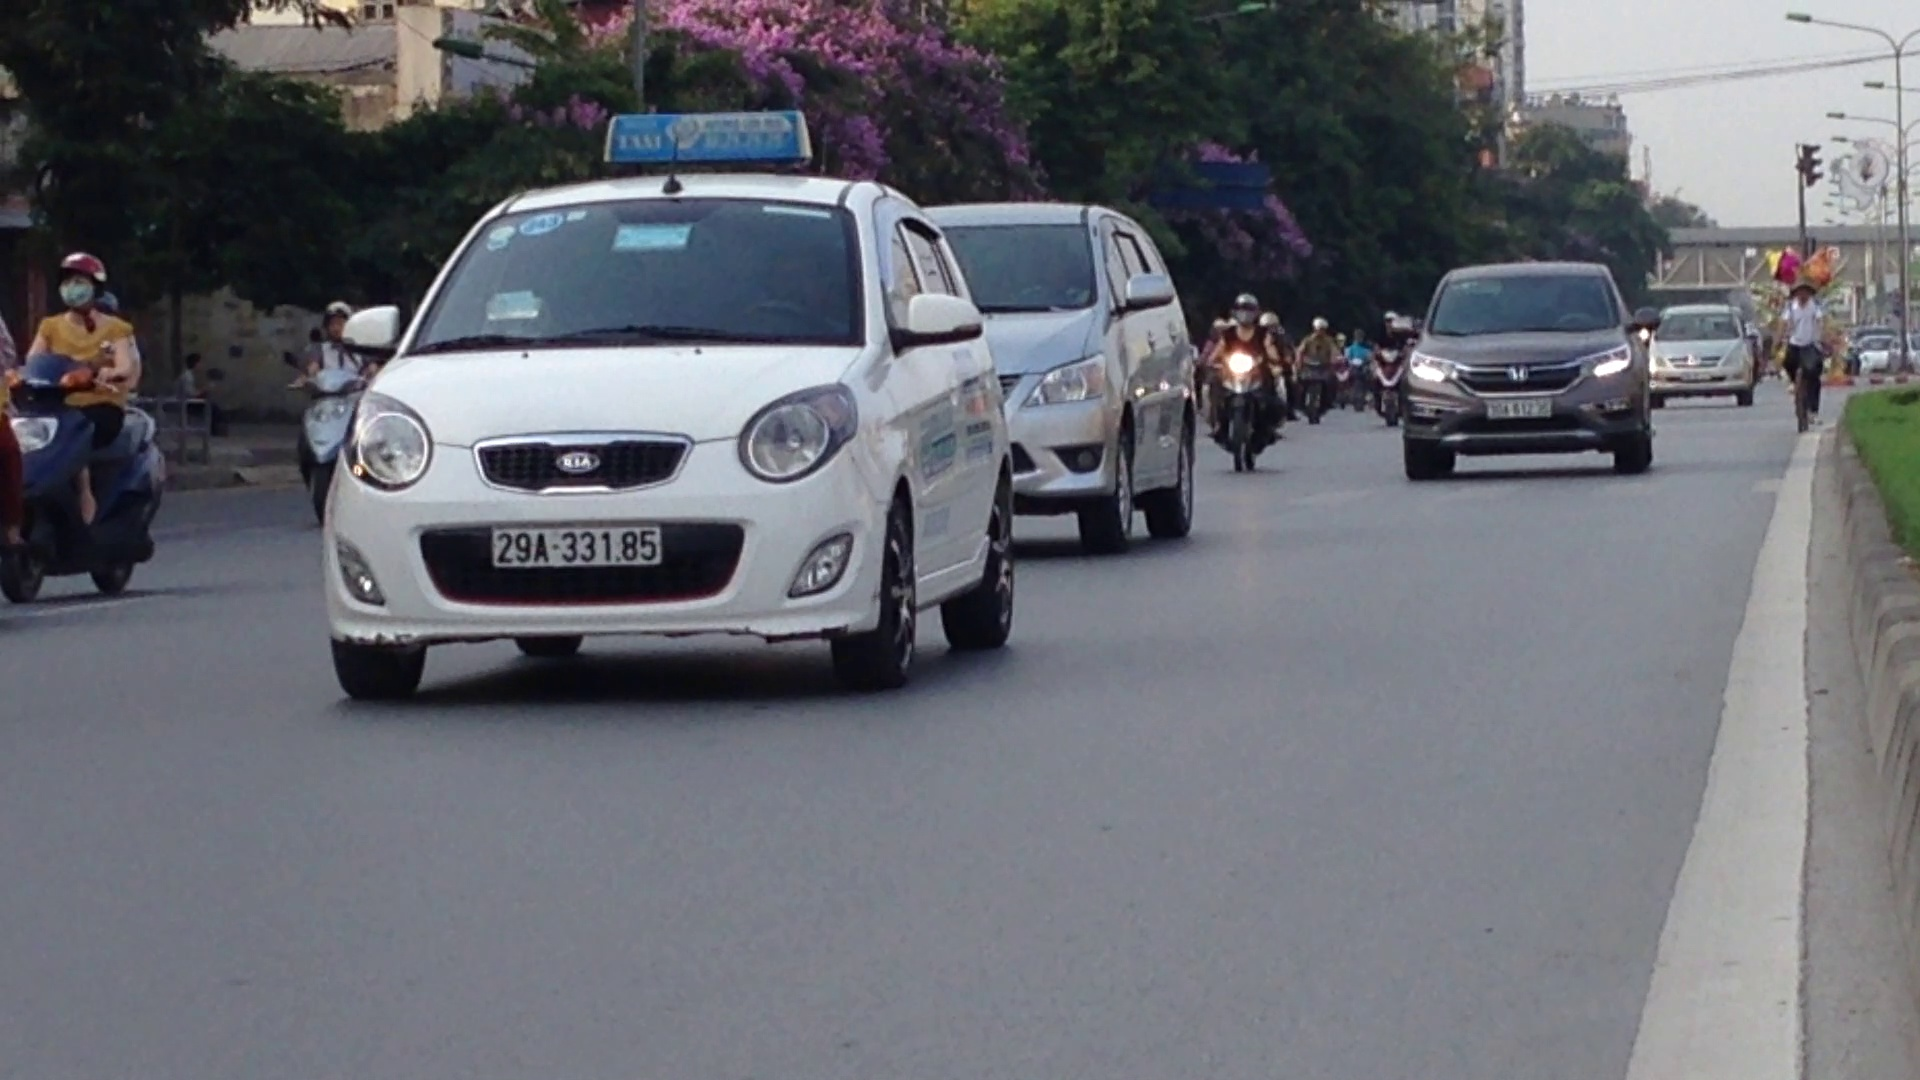vehicle-plate: (486, 524, 665, 569), (1482, 395, 1555, 422)
